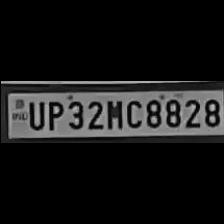2: (84, 96, 104, 130), (182, 96, 200, 128)
3: (64, 98, 82, 130)
8: (142, 96, 162, 128), (200, 96, 220, 128), (163, 96, 181, 128)
C: (123, 96, 141, 128)
M: (104, 96, 122, 130)
P: (43, 97, 62, 130)
U: (23, 98, 43, 130)
